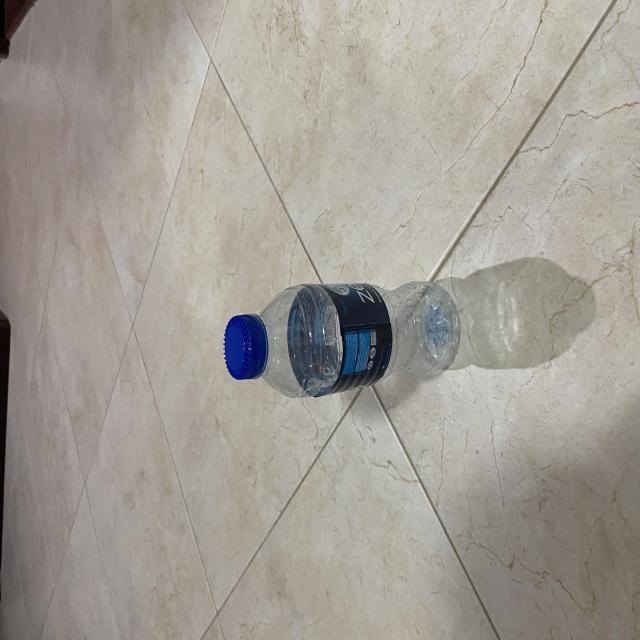plastic: (218, 277, 461, 403)
